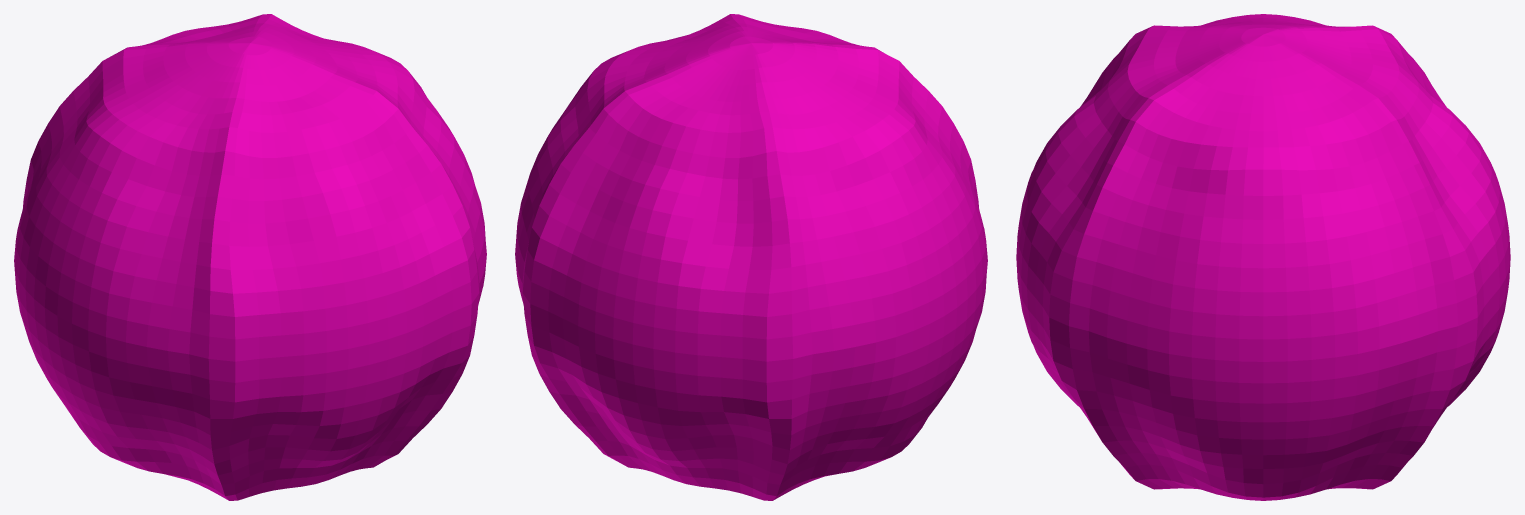
The model's file is Player_5.fbx.
3 views of the same model, side by side, from view 1: azimuth 30°, elevation 25°; view 2: azimuth 150°, elevation 25°; view 3: azimuth 270°, elevation 25° (orthographic). The views are drawn at different scales.
Visible parts, largest first — view 1: Sphere; view 2: Sphere; view 3: Sphere.
Boxes of the visible parts, x1,y1,x2,y2 form: Sphere: [14, 14, 486, 500]; Sphere: [515, 14, 987, 500]; Sphere: [1016, 14, 1510, 500].
Size of the model in its own units: 200 by 199 by 200.
